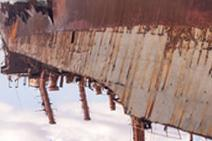rust: (39, 69, 152, 141), (54, 1, 212, 47)
